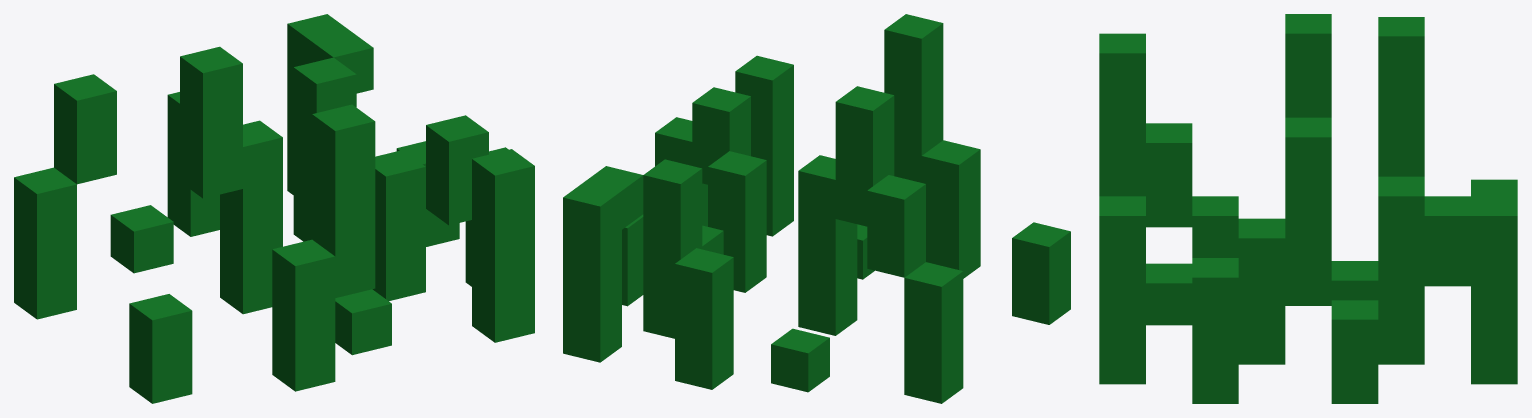
The model's file is grass1.dae.
The picture shows the model from 3 angles, left to right: view 1: azimuth 30°, elevation 25°; view 2: azimuth 150°, elevation 25°; view 3: azimuth 270°, elevation 25°; orthographic projection. The views are drawn at different scales.
Visible parts, largest first — view 1: PlaneCOL; view 2: PlaneCOL; view 3: PlaneCOL.
Part boxes in pixels (<box>): PlaneCOL: <box>14,14,534,403</box>; PlaneCOL: <box>563,14,1070,403</box>; PlaneCOL: <box>1099,14,1517,403</box>.
Size of the model in its own units: 1 by 0.9 by 0.6.
